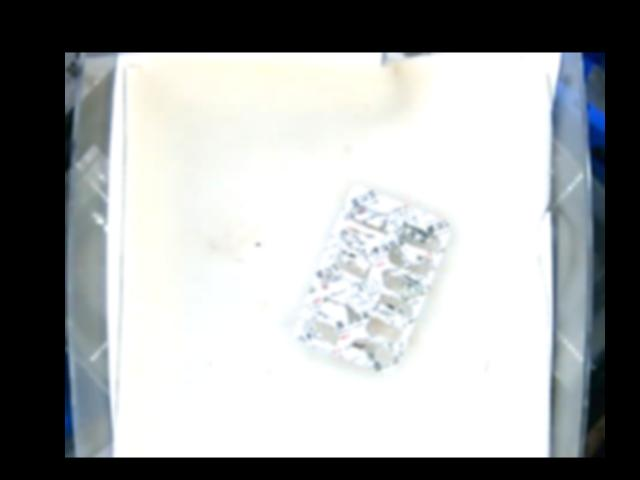Medicine: (292, 184, 449, 373)
